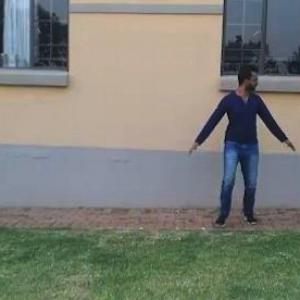land: (184, 60, 287, 234)
